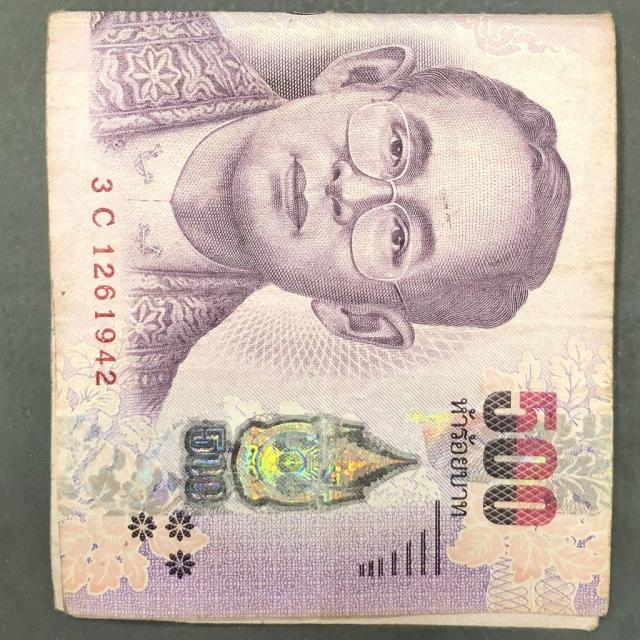THAI500: (46, 11, 616, 628)
